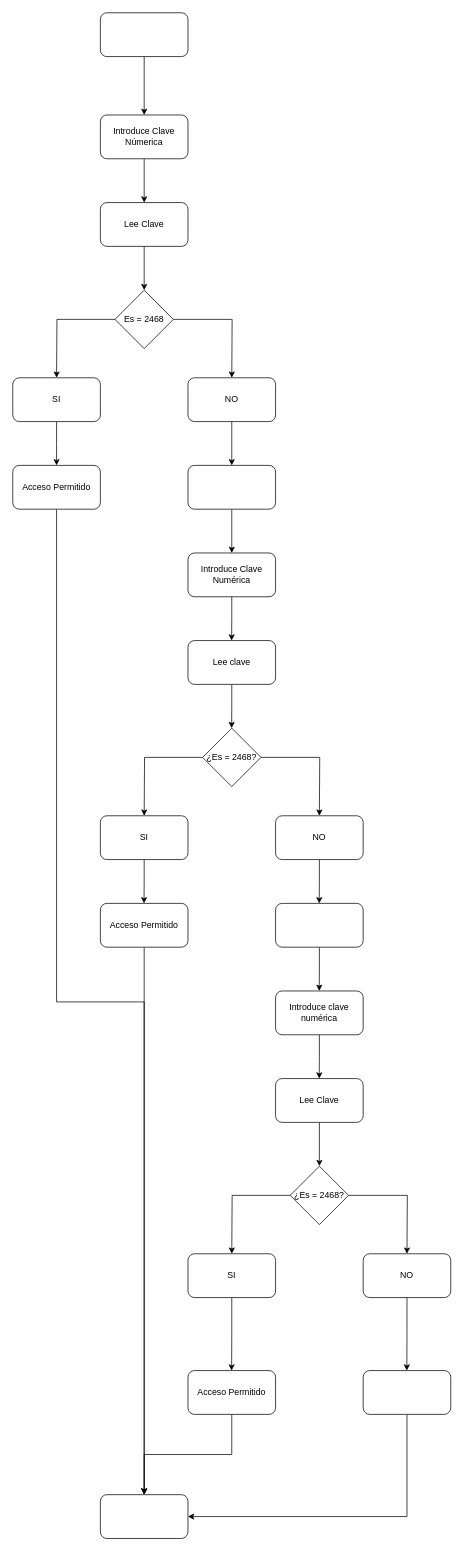
Image size: 464x1551. Some labels were removed from this diagram. Each missing label, with the centre of its shape:
Acceso bloqueado, no te quedan mas intentos: point (406, 1392)
Clave incorrecta, te queda 1 intento: point (319, 925)
Clave incorrecta, te quedan 2 intentos: point (231, 487)
FIN: point (144, 1516)
Inicio: point (144, 34)
